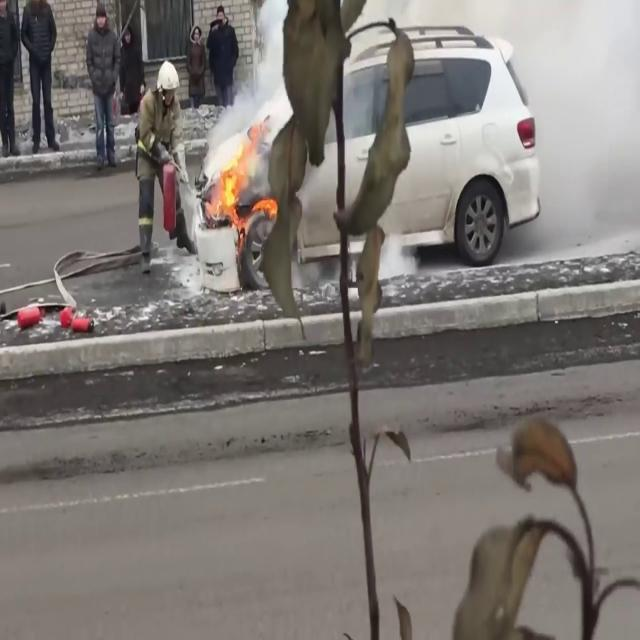Fire: (208, 128, 262, 235)
Smoke: (519, 0, 640, 273)
